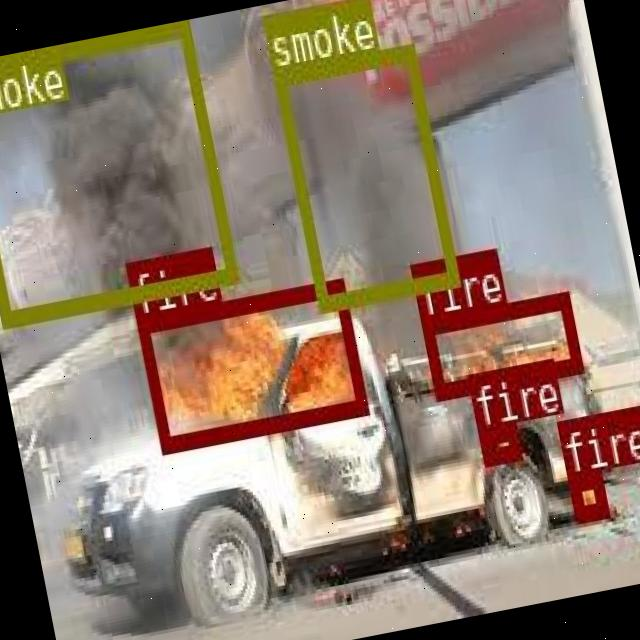fire: (134, 276, 366, 449), (420, 288, 581, 396), (566, 470, 608, 520), (476, 423, 518, 462)
smoke: (0, 20, 236, 323), (271, 42, 458, 310)
